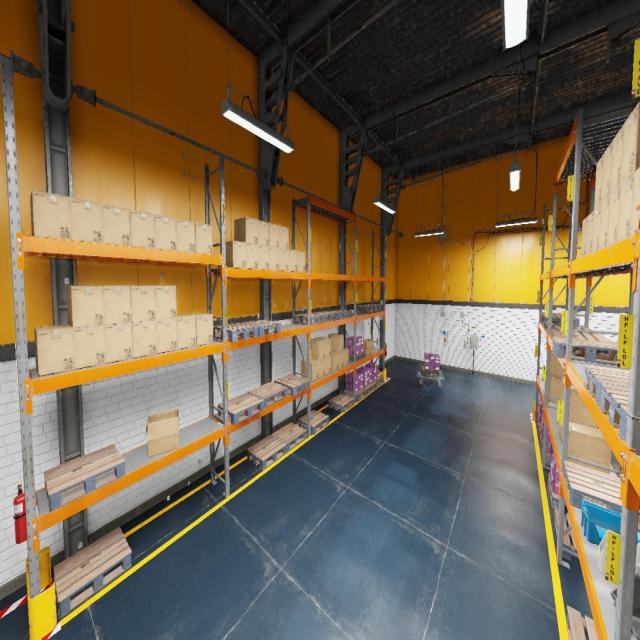box: (567, 421, 611, 474), (34, 324, 75, 376), (30, 190, 71, 240), (145, 409, 180, 457), (66, 286, 104, 328), (621, 102, 640, 184), (564, 383, 598, 428), (70, 197, 103, 243), (73, 326, 106, 370), (102, 203, 130, 246), (104, 322, 132, 363), (618, 173, 634, 241), (103, 286, 131, 324), (610, 124, 624, 194), (130, 209, 155, 248), (132, 320, 156, 358), (130, 286, 155, 322), (154, 214, 177, 251), (187, 313, 213, 345), (154, 286, 177, 320), (601, 140, 613, 203), (156, 318, 177, 353), (608, 186, 620, 246), (630, 167, 640, 236), (177, 314, 196, 350), (176, 218, 195, 253), (234, 217, 258, 244), (599, 196, 610, 250), (225, 240, 246, 268), (195, 222, 213, 254), (594, 153, 604, 210), (592, 204, 601, 252), (301, 358, 319, 382), (549, 351, 564, 376), (548, 375, 561, 403), (586, 210, 594, 255), (310, 338, 325, 360), (580, 216, 588, 256), (315, 337, 331, 357), (246, 243, 258, 269), (328, 333, 344, 352), (258, 244, 269, 270), (560, 377, 572, 400), (258, 220, 268, 246), (269, 223, 279, 248), (269, 247, 279, 270), (279, 225, 288, 249), (333, 351, 344, 368), (280, 248, 288, 271), (289, 250, 297, 272), (298, 251, 306, 272), (364, 339, 374, 354), (331, 352, 338, 372), (319, 358, 325, 378), (325, 356, 331, 375), (558, 424, 562, 443), (344, 348, 348, 366), (545, 382, 545, 388), (562, 425, 562, 443)
pallets: (54, 527, 132, 618), (562, 461, 640, 532), (44, 444, 125, 511), (552, 336, 618, 365), (584, 364, 629, 406), (600, 383, 628, 441), (218, 393, 264, 425), (552, 330, 610, 354), (247, 435, 286, 470), (554, 509, 577, 561), (566, 606, 598, 640), (247, 382, 287, 408), (272, 423, 306, 452), (213, 323, 258, 342), (274, 374, 309, 396), (298, 410, 329, 434), (240, 320, 281, 336), (548, 473, 566, 509), (328, 393, 354, 412), (542, 315, 580, 327), (554, 326, 599, 334), (296, 313, 325, 325), (343, 388, 367, 401), (542, 440, 553, 466), (312, 311, 338, 321), (421, 366, 441, 378), (540, 312, 561, 323), (328, 309, 351, 319), (348, 352, 366, 362), (363, 382, 376, 394), (371, 376, 384, 388), (354, 305, 376, 312), (365, 304, 384, 310), (539, 426, 543, 446), (538, 416, 540, 432)
